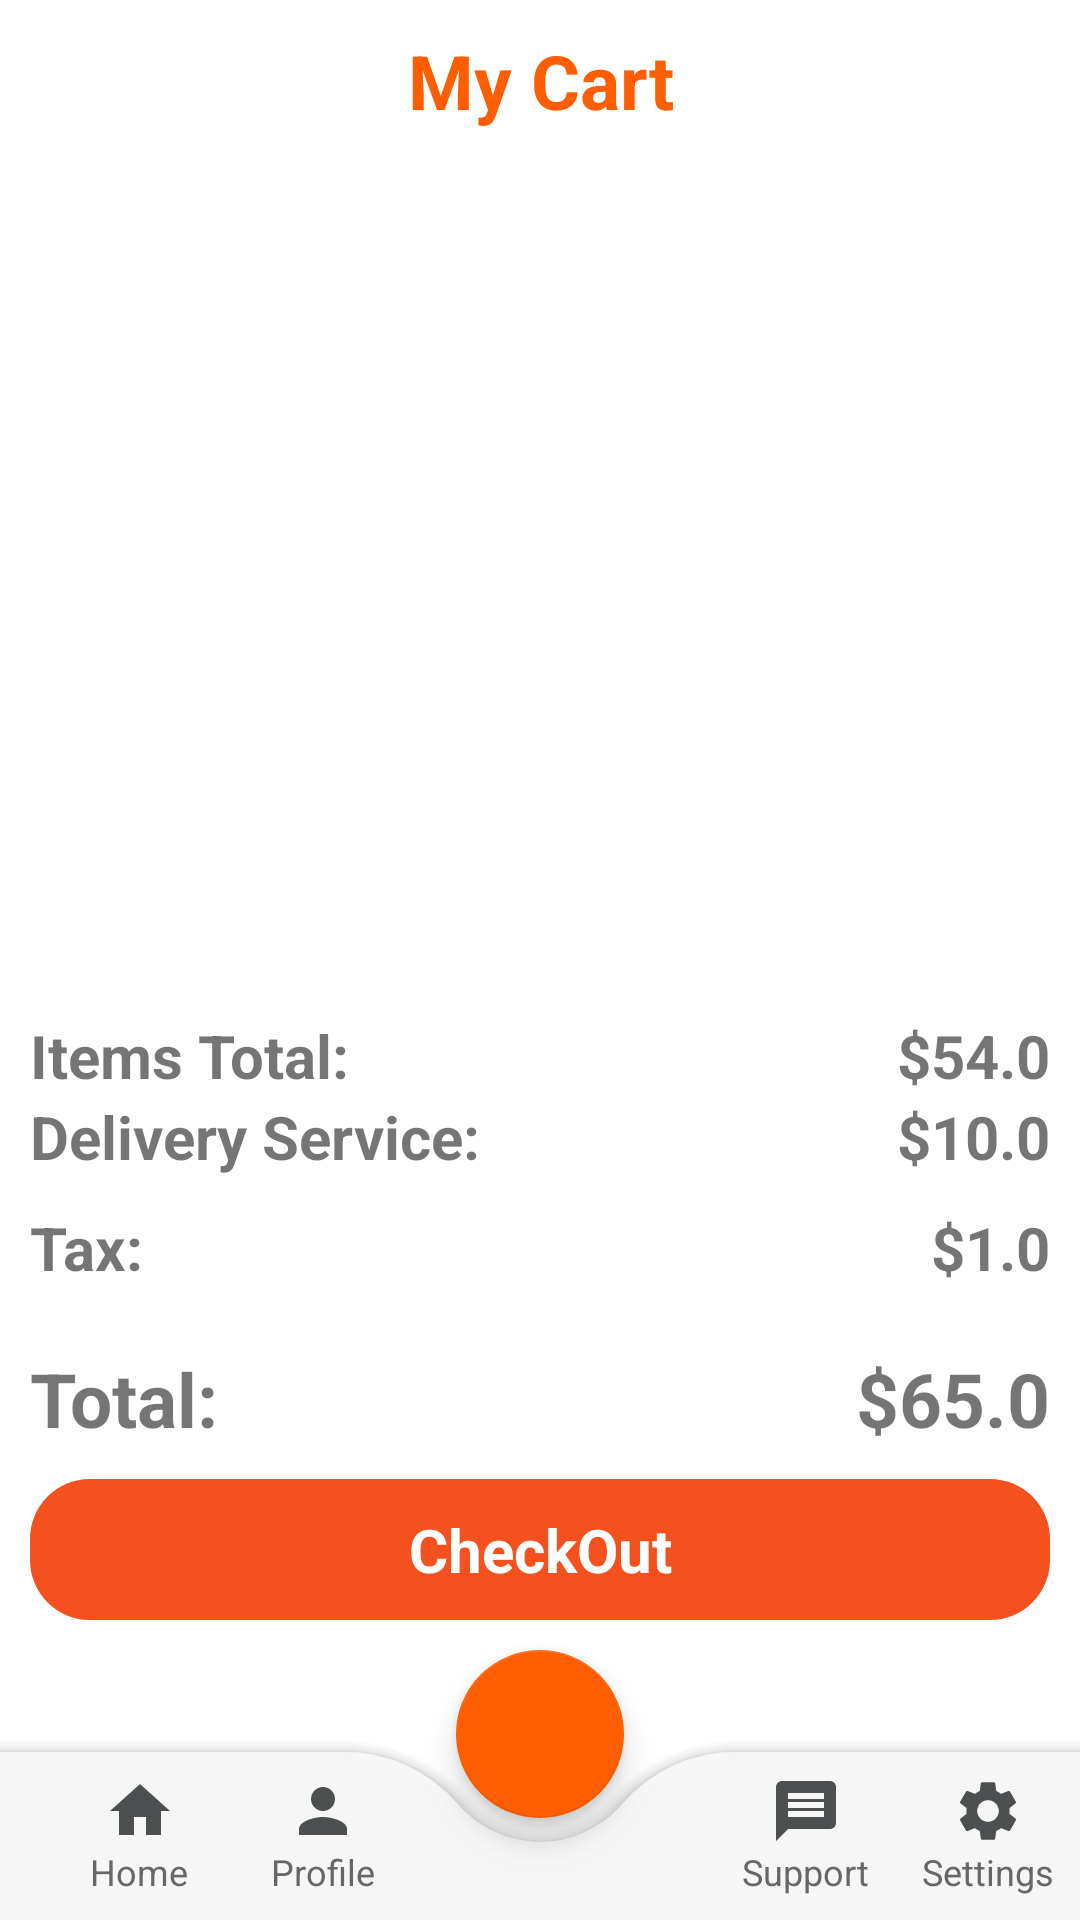

Named icons in this screenshot (1080 x 1920) and their bounding boxes, (x1=x1, y1=y1, x2=x2, y2=y2):
message: (x1=776, y1=1781, x2=836, y2=1841)
person: (x1=299, y1=1787, x2=347, y2=1835)
